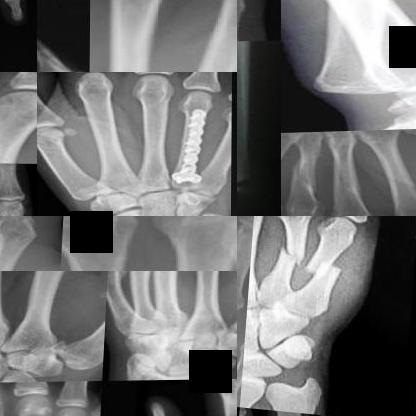fracture: (164, 105, 222, 186), (302, 237, 353, 282), (266, 228, 312, 271), (319, 166, 362, 200), (281, 157, 322, 192), (47, 337, 91, 362), (108, 271, 137, 293)
